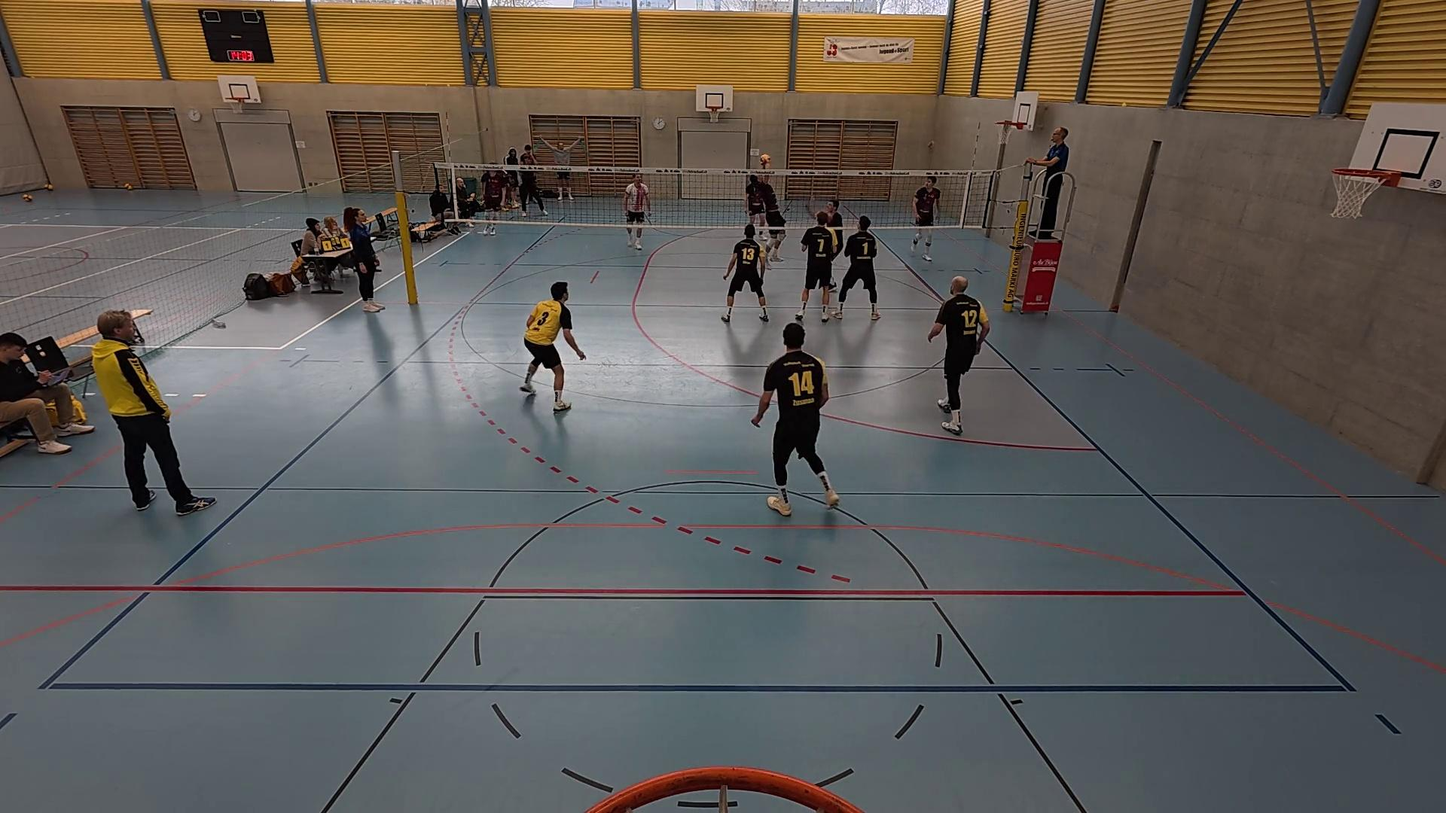Player: (751, 322, 840, 516), (926, 276, 990, 433), (520, 281, 584, 412), (831, 215, 881, 321), (798, 210, 842, 323), (721, 224, 768, 321), (807, 191, 845, 293), (910, 175, 941, 261), (624, 172, 652, 251), (761, 195, 791, 261)
Set: (744, 153, 781, 258)
ball: (755, 152, 770, 165)
